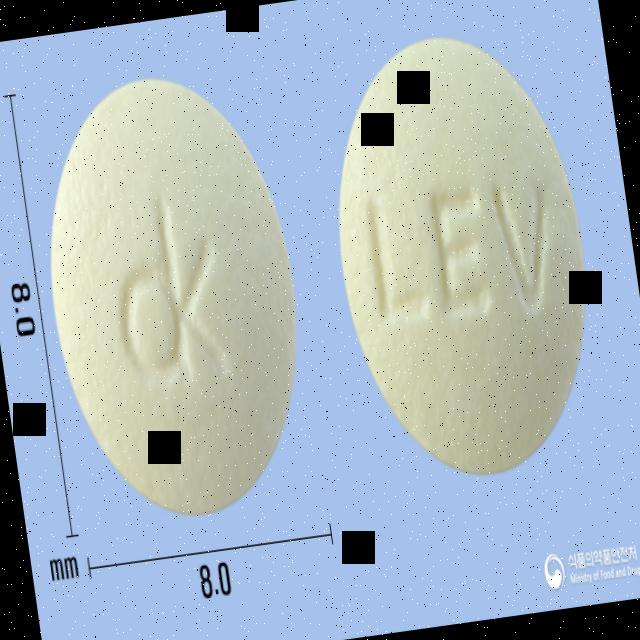Levoracin: (313, 16, 614, 488), (27, 62, 324, 534)
